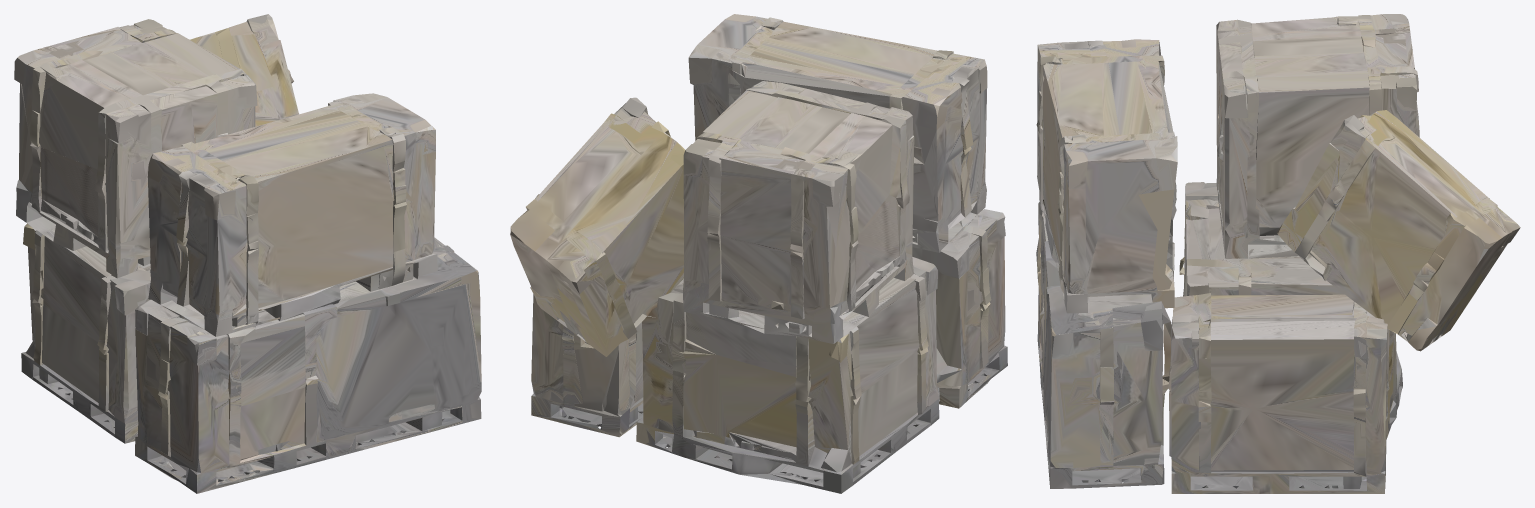
3 renders of one model, left to right at view 1: azimuth 30°, elevation 25°; view 2: azimuth 150°, elevation 25°; view 3: azimuth 270°, elevation 25°, orthographic. The views are drawn at different scales.
Parts seen in each view (by area): view 1: k03; view 2: k03; view 3: k03.
Part boxes in pixels (<box>): k03: <box>14,14,481,493</box>; k03: <box>510,14,1007,493</box>; k03: <box>1036,14,1520,493</box>.
Bounding box in the file's own units: 12.35 × 12 × 15.88.
1 material, 1 textured.
